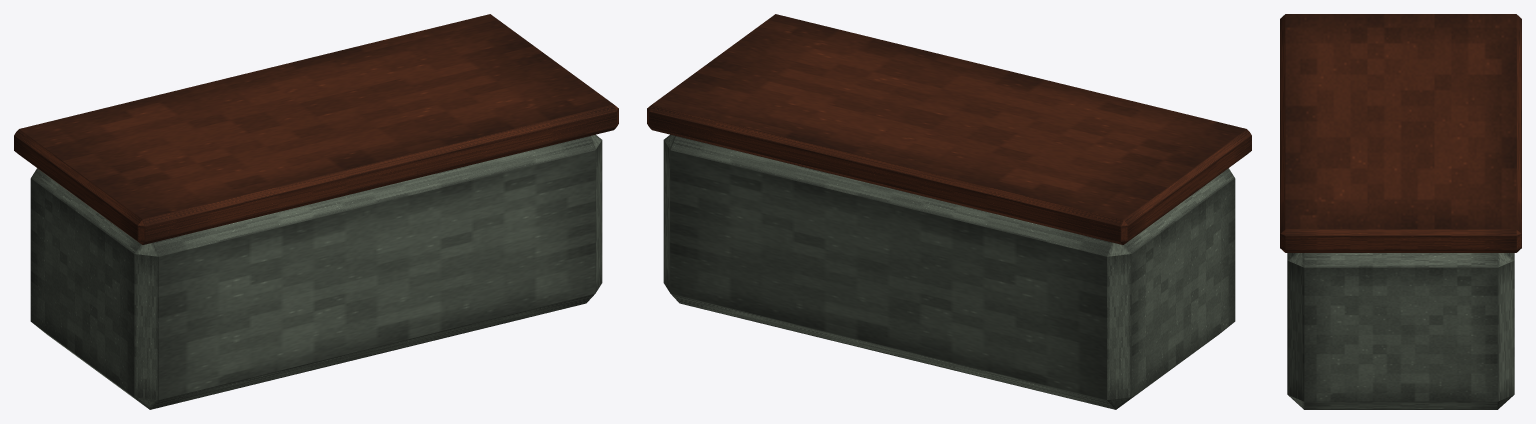
Rendered from THStage_FindSupport_10.fbx.
3 renders of one model, left to right at view 1: azimuth 30°, elevation 25°; view 2: azimuth 150°, elevation 25°; view 3: azimuth 270°, elevation 25°, orthographic. The views are drawn at different scales.
Visible parts, largest first — view 1: THStage_FindSupport_10.009; view 2: THStage_FindSupport_10.009; view 3: THStage_FindSupport_10.009.
Boxes of the visible parts, x1=… form: THStage_FindSupport_10.009: x1=14, y1=14, x2=618, y2=409; THStage_FindSupport_10.009: x1=647, y1=14, x2=1251, y2=409; THStage_FindSupport_10.009: x1=1280, y1=14, x2=1521, y2=409.
Size of the model in its own units: 0.548 by 0.22 by 0.255.
1 material, 1 textured.
